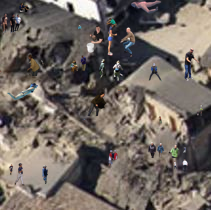Human: (99, 59, 124, 81), (19, 106, 61, 119), (86, 25, 105, 53), (130, 0, 168, 14), (184, 48, 200, 81), (119, 27, 136, 58), (7, 83, 38, 100), (70, 55, 97, 74), (148, 142, 179, 158), (1, 13, 23, 35), (87, 92, 107, 116), (107, 22, 118, 56), (9, 163, 25, 186), (108, 150, 127, 167), (26, 54, 40, 76), (148, 63, 163, 82), (173, 159, 188, 172), (106, 18, 117, 33), (42, 165, 48, 184), (19, 3, 29, 12), (157, 116, 162, 124), (197, 111, 202, 116), (117, 89, 121, 94), (81, 118, 86, 122), (78, 25, 82, 30), (41, 60, 44, 66), (0, 69, 3, 75), (200, 104, 203, 110), (183, 147, 186, 153)
